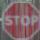Stop: (2, 6, 39, 33)
